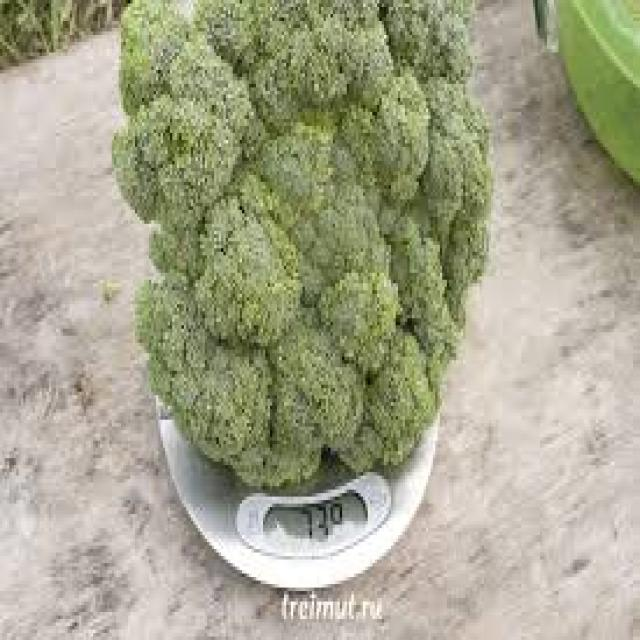broccoli: (104, 13, 494, 466)
